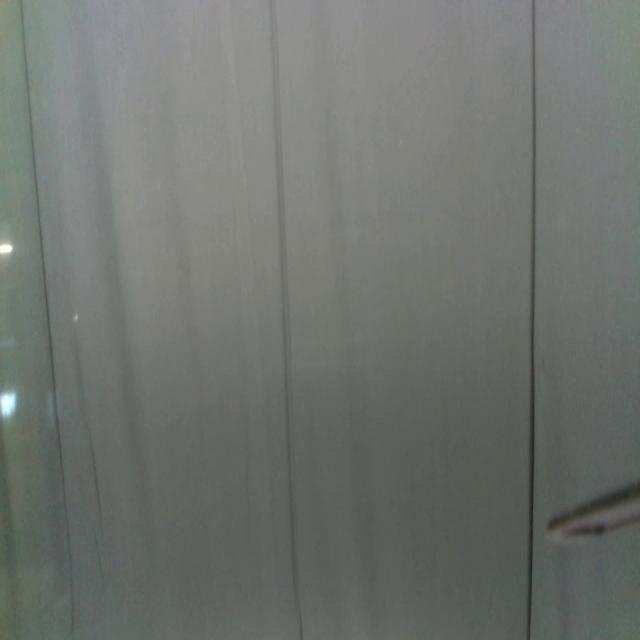crease: (18, 1, 76, 632), (267, 0, 304, 640), (524, 0, 537, 639), (84, 406, 107, 534)
